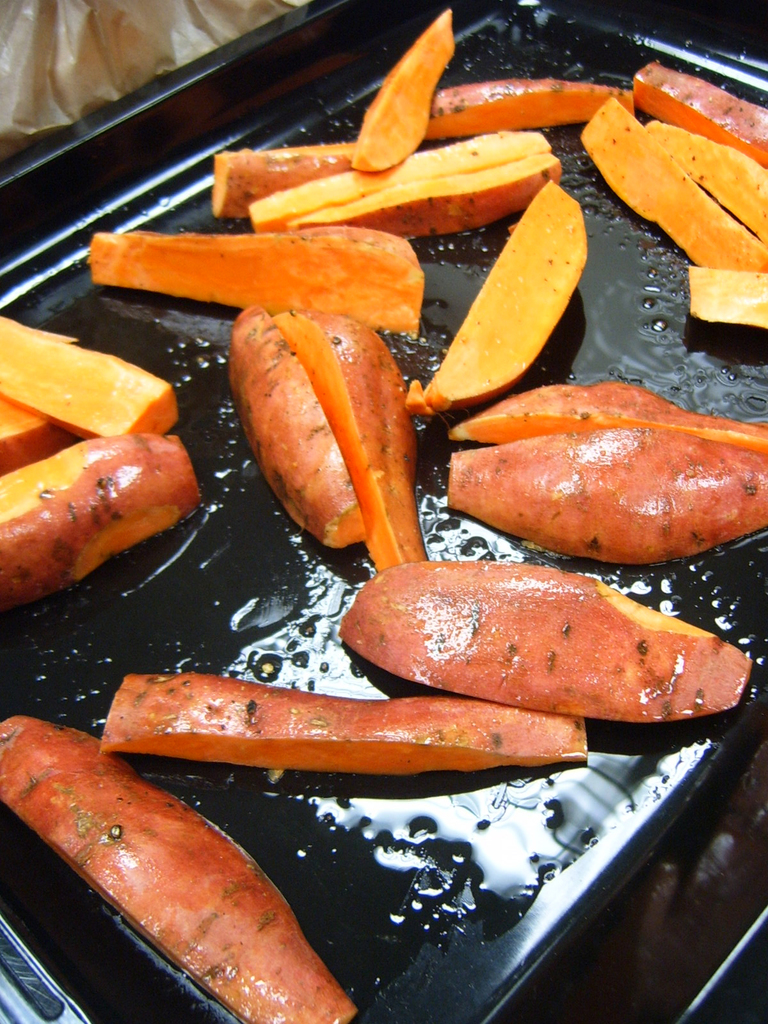Carrot: (0, 7, 768, 1024)
